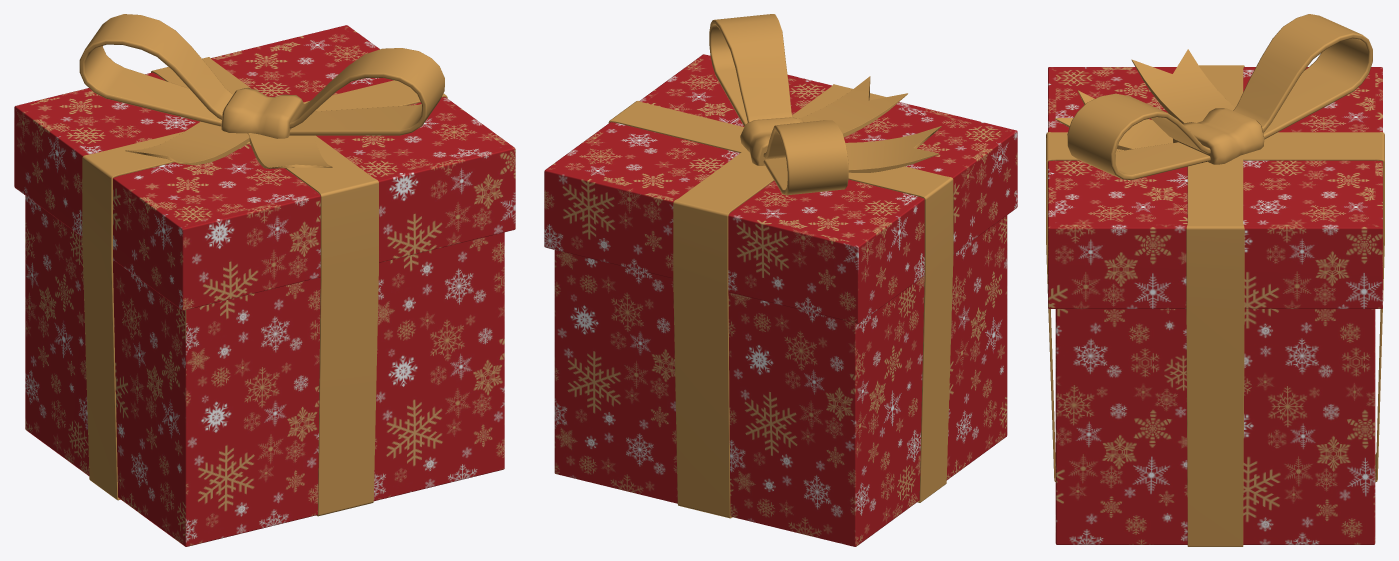
The picture shows the model from 3 angles, left to right: view 1: azimuth 30°, elevation 25°; view 2: azimuth 150°, elevation 25°; view 3: azimuth 270°, elevation 25°; orthographic projection. The views are drawn at different scales.
Parts seen in each view (by area): view 1: Box_giftbox_0; view 2: Box_giftbox_0; view 3: Box_giftbox_0.
Part boxes in pixels (x1,y1,x2,y2): Box_giftbox_0: (14, 14, 515, 546); Box_giftbox_0: (544, 14, 1017, 546); Box_giftbox_0: (1046, 14, 1384, 546).
Bounding box in the file's own units: 0.1711 × 0.1971 × 0.1504.
Materials: 1 (1 with a texture image).
